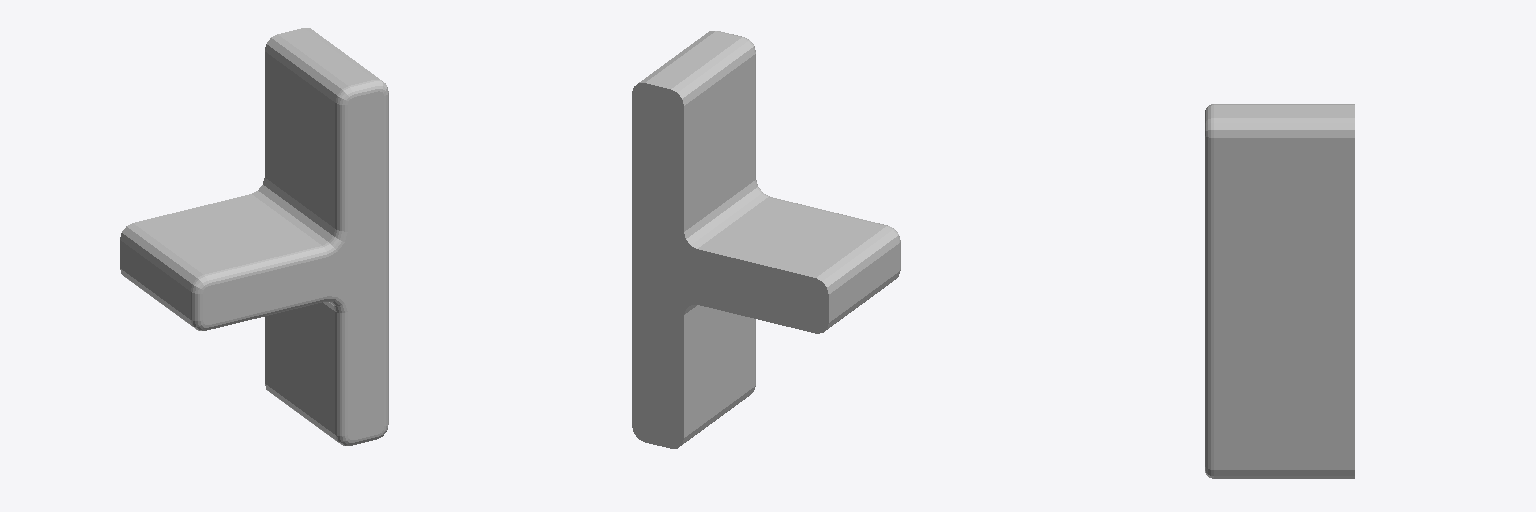
File: 2_Sideways_T_Wall_Mirror.obj
3 renders of one model, left to right at view 1: azimuth 30°, elevation 25°; view 2: azimuth 150°, elevation 25°; view 3: azimuth 270°, elevation 25°, orthographic.
Parts seen in each view (by area): view 1: Sideways_T_Wall_Mirror_Plane.004; view 2: Sideways_T_Wall_Mirror_Plane.004; view 3: Sideways_T_Wall_Mirror_Plane.004.
Part boxes in pixels (x1,y1,x2,y2): Sideways_T_Wall_Mirror_Plane.004: (120, 28, 388, 445); Sideways_T_Wall_Mirror_Plane.004: (632, 31, 900, 448); Sideways_T_Wall_Mirror_Plane.004: (1205, 104, 1354, 478).
Size of the model in its own units: 7.55 by 13.16 by 5.